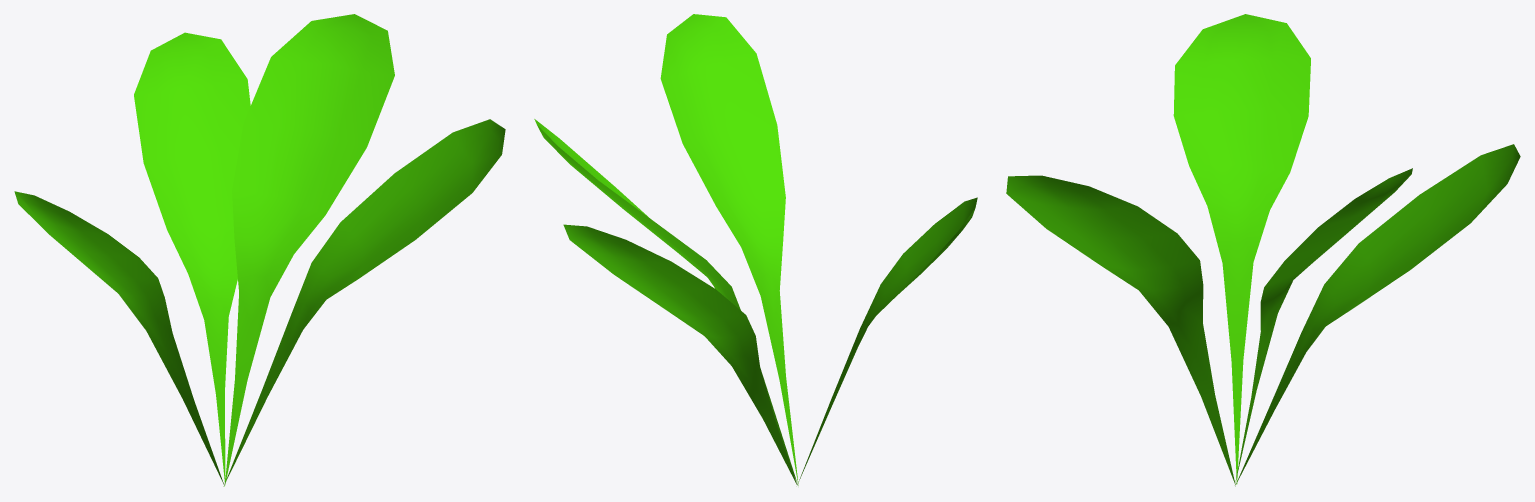
The model's file is plant02.glb.
3 views of the same model, side by side, from view 1: azimuth 30°, elevation 25°; view 2: azimuth 150°, elevation 25°; view 3: azimuth 270°, elevation 25° (orthographic). The views are drawn at different scales.
Visible parts, largest first — view 1: obj2, obj3, obj1, obj4; view 2: obj1, obj3, obj4, obj2; view 3: obj4, obj1, obj3, obj2.
Part boxes in pixels (x1,y1,x2,y2): obj2: (224, 14, 394, 486); obj3: (134, 32, 250, 481); obj1: (223, 119, 505, 486); obj4: (14, 191, 223, 484); obj1: (660, 14, 798, 485); obj3: (563, 224, 797, 485); obj4: (797, 197, 977, 484); obj2: (534, 119, 797, 484); obj4: (1173, 14, 1310, 484); obj1: (1006, 175, 1235, 484); obj3: (1236, 144, 1520, 483); obj2: (1235, 168, 1412, 484).
Size of the model in its own units: 1.44 by 1.27 by 1.42.
